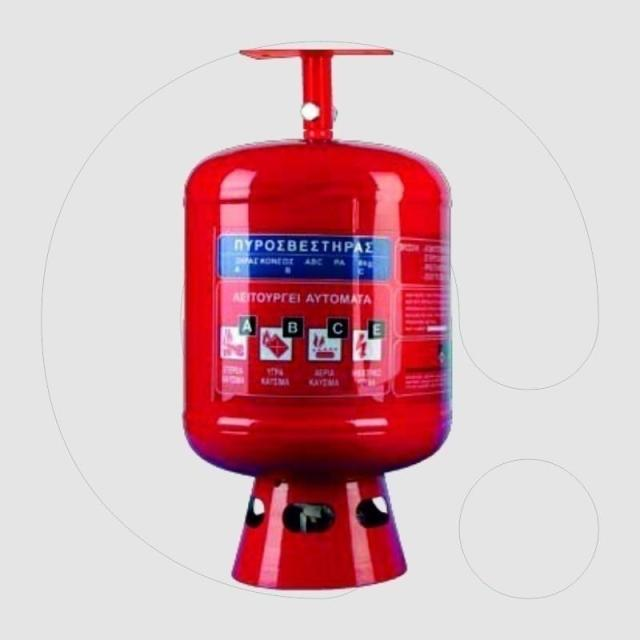fire_extinguisher: (172, 39, 460, 596)
